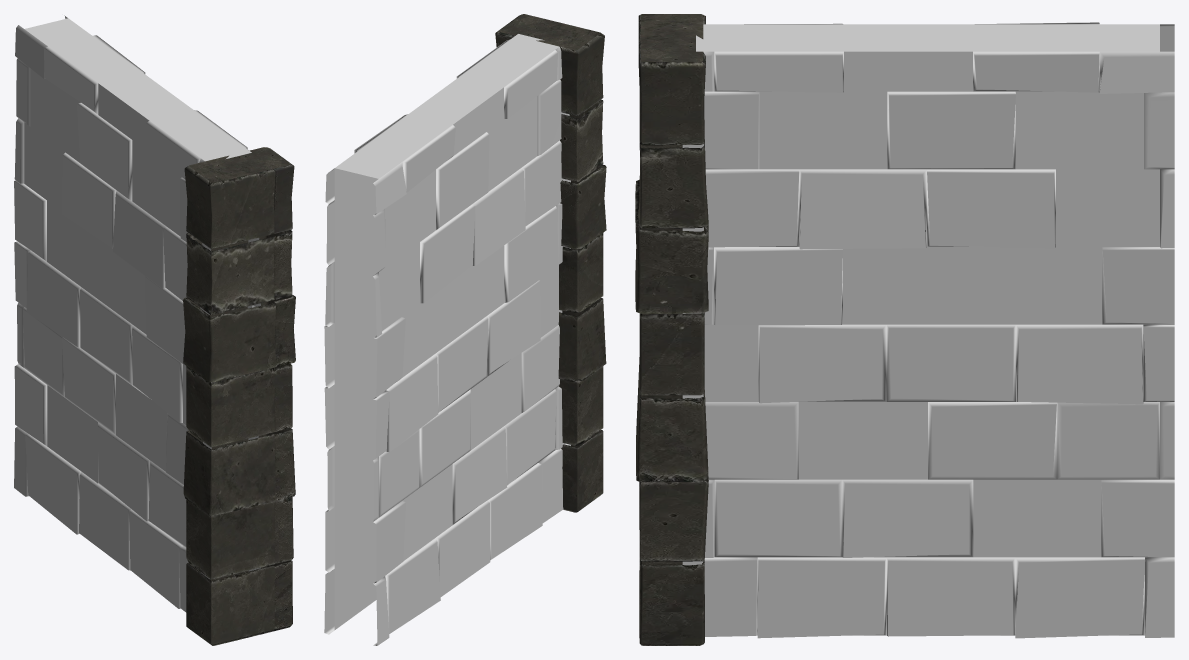
3 views of the same model, side by side, from view 1: azimuth 30°, elevation 25°; view 2: azimuth 150°, elevation 25°; view 3: azimuth 270°, elevation 25° (orthographic). The views are drawn at different scales.
Parts seen in each view (by area): view 1: SM_Greathall_Wall_8x10_03_LOD0; view 2: SM_Greathall_Wall_8x10_03_LOD0; view 3: SM_Greathall_Wall_8x10_03_LOD0.
Boxes of the visible parts, x1,y1,x2,y2 form: SM_Greathall_Wall_8x10_03_LOD0: [14, 15, 295, 645]; SM_Greathall_Wall_8x10_03_LOD0: [324, 14, 606, 645]; SM_Greathall_Wall_8x10_03_LOD0: [635, 14, 1174, 645].
Size of the model in its own units: 1.99 by 10 by 8.37.
2 materials, 1 textured.
